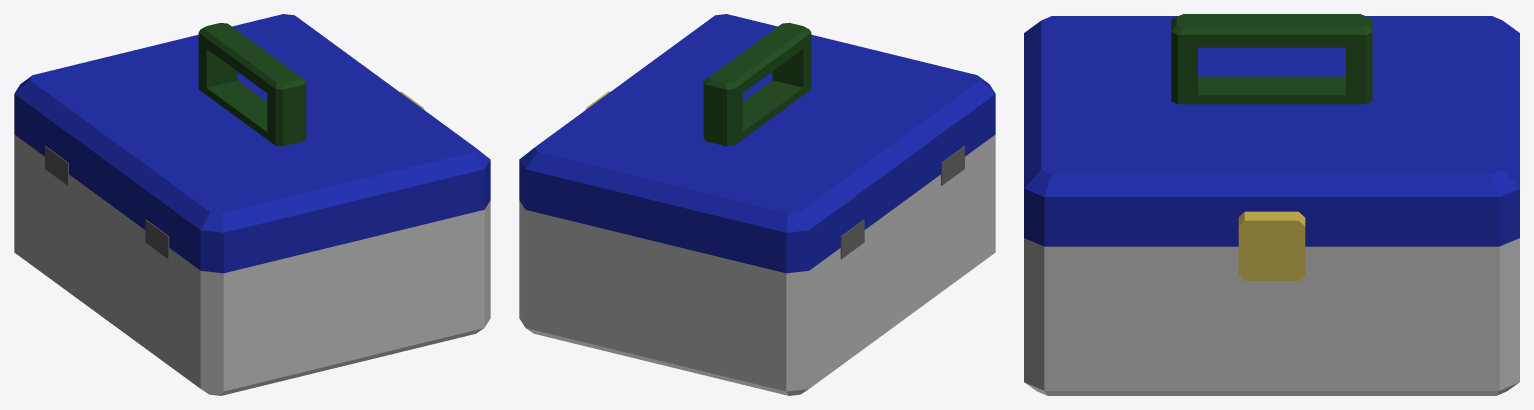
Rendered from QQBOX.002 (2).fbx.
3 renders of one model, left to right at view 1: azimuth 30°, elevation 25°; view 2: azimuth 150°, elevation 25°; view 3: azimuth 270°, elevation 25°, orthographic. The views are drawn at different scales.
Visible parts, largest first — view 1: polySurface2; view 2: polySurface2; view 3: polySurface2.
Boxes of the visible parts, x1,y1,x2,y2 form: polySurface2: (14, 14, 490, 395); polySurface2: (519, 14, 995, 395); polySurface2: (1024, 14, 1519, 395).
Bounding box in the file's own units: 34.83 × 26.26 × 40.07.
